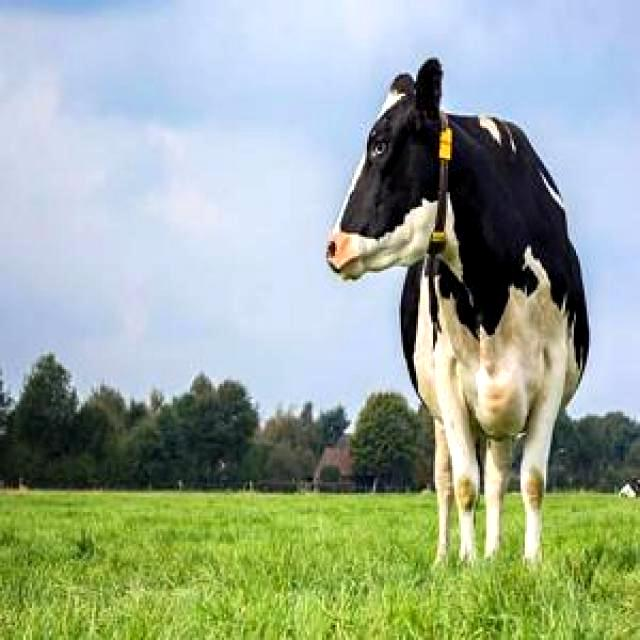COW: (326, 59, 589, 562)
